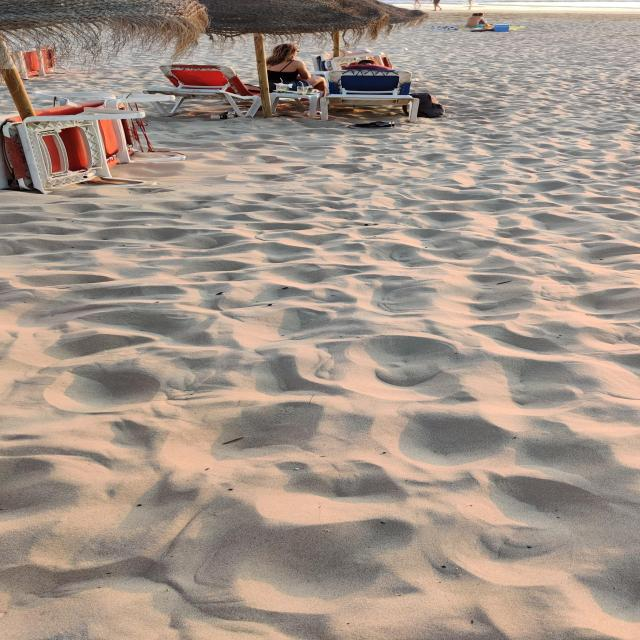litter: (211, 105, 252, 120), (348, 120, 396, 129)
